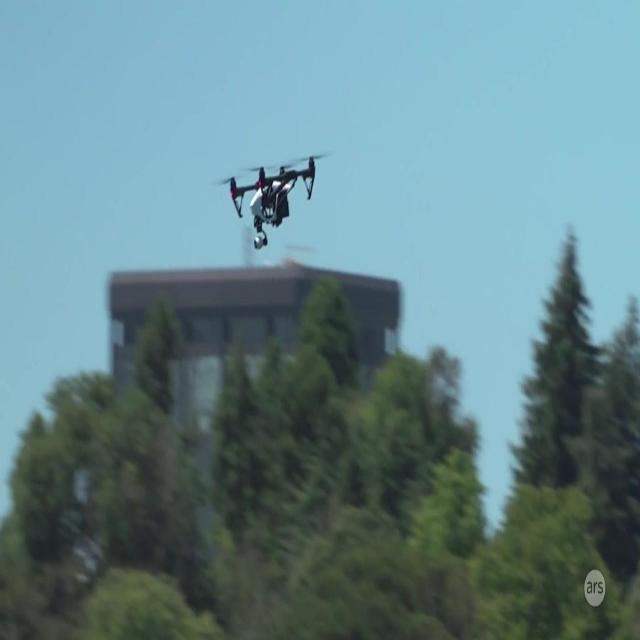UAV: (211, 152, 331, 250)
